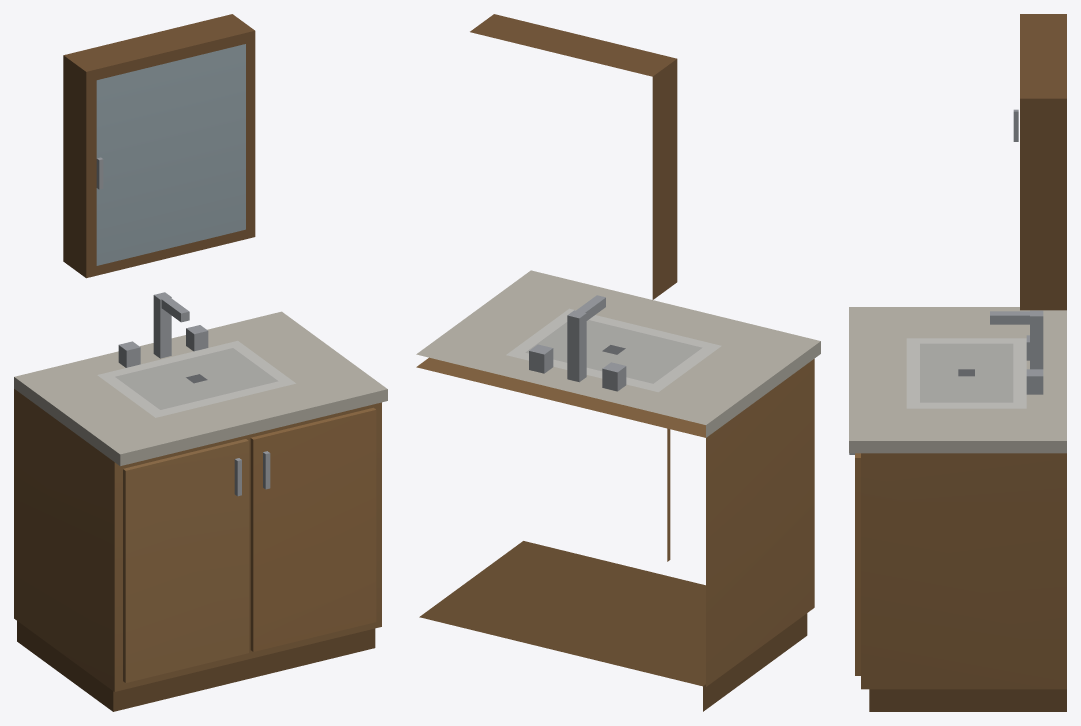
The model's file is cabinet.sink_mirror.oak.glb.
The picture shows the model from 3 angles, left to right: view 1: azimuth 30°, elevation 25°; view 2: azimuth 150°, elevation 25°; view 3: azimuth 270°, elevation 25°; orthographic projection. The views are drawn at different scales.
Parts seen in each view (by area): view 1: cabinet_sink_mirror_oak; view 2: cabinet_sink_mirror_oak; view 3: cabinet_sink_mirror_oak.
Part boxes in pixels (x1,y1,x2,y2): cabinet_sink_mirror_oak: (14, 14, 387, 711); cabinet_sink_mirror_oak: (416, 14, 820, 711); cabinet_sink_mirror_oak: (849, 14, 1066, 711).
Size of what is drawn, in the model's own units: 0.95 by 1.95 by 0.652.
